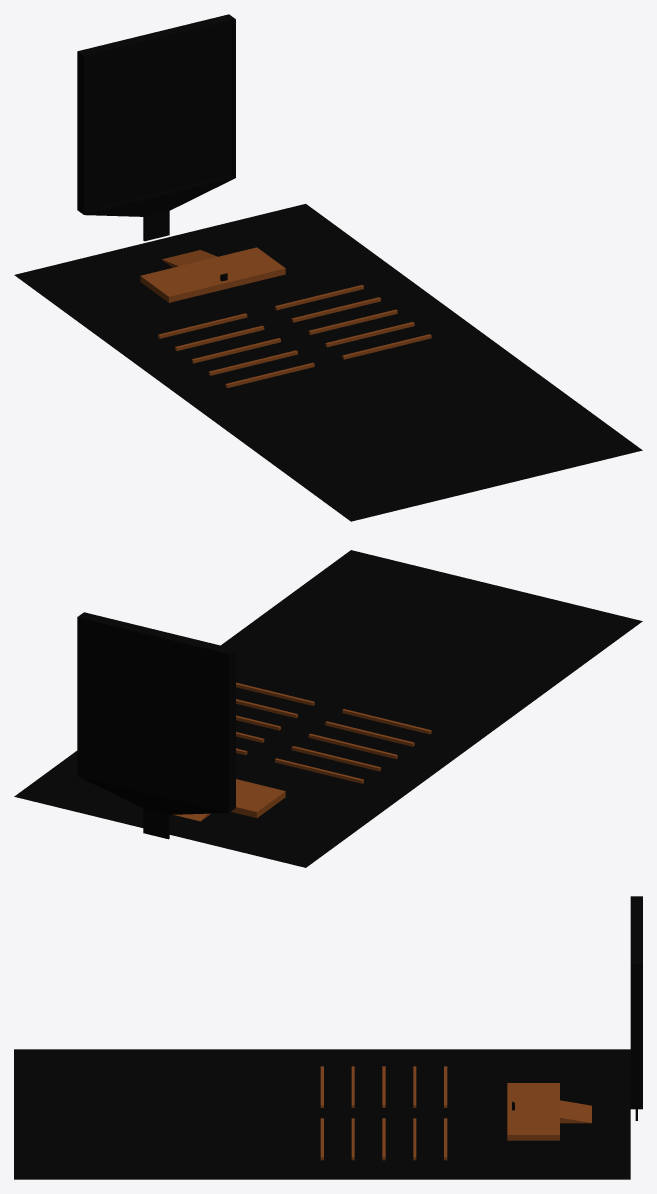
The picture shows the model from 3 angles, top to bottom: view 1: azimuth 30°, elevation 25°; view 2: azimuth 150°, elevation 25°; view 3: azimuth 270°, elevation 25°; orthographic projection. The views are drawn at different scales.
Visible parts, largest first — view 1: floor, screen, platform; view 2: floor, screen, platform, bench1.006, bench1.002, bench1.008, bench1.004, bench1; view 3: floor, platform, screen.
Part boxes in pixels (bbox=[...]): floor: bbox=[14, 204, 642, 521]; screen: bbox=[77, 14, 235, 241]; platform: bbox=[140, 247, 285, 302]; floor: bbox=[14, 550, 642, 867]; screen: bbox=[77, 612, 235, 839]; platform: bbox=[173, 779, 285, 821]; bench1.006: bbox=[325, 721, 414, 746]; bench1.002: bbox=[291, 746, 380, 771]; bench1.008: bbox=[342, 709, 431, 734]; bench1.004: bbox=[308, 733, 397, 758]; bench1: bbox=[275, 758, 363, 783]; floor: bbox=[14, 1049, 630, 1179]; platform: bbox=[507, 1083, 591, 1140]; screen: bbox=[630, 896, 642, 1120].
Bounding box in the file's own units: 50 × 33.17 × 102.
3 materials, 1 textured.
